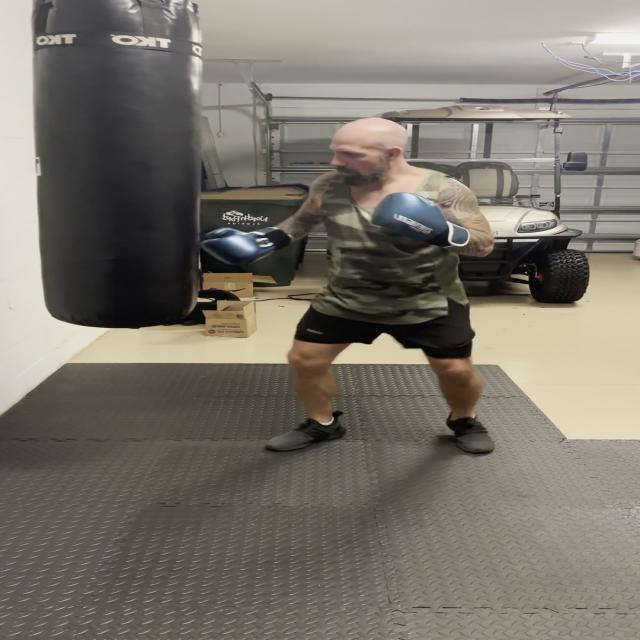bag: (35, 0, 207, 331)
hook: (185, 101, 485, 279)
